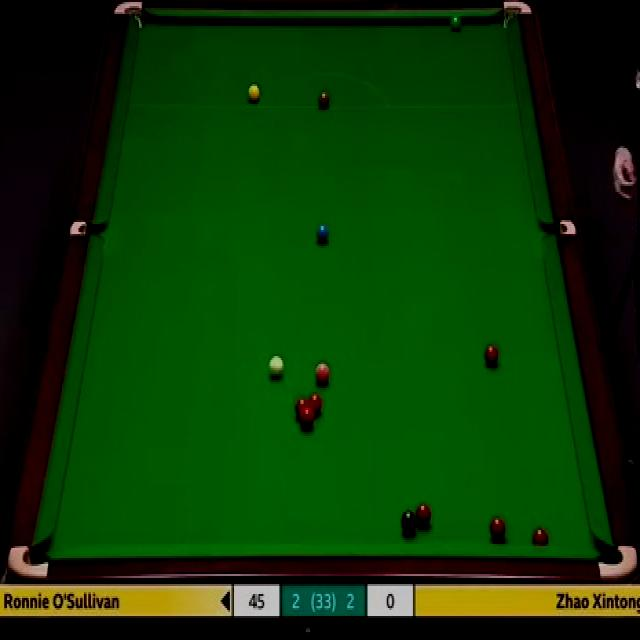black-ball: (402, 508, 416, 537)
blue-ball: (317, 224, 331, 246)
brown-ball: (318, 88, 330, 108)
green-ball: (448, 13, 462, 30)
pink-ball: (314, 361, 332, 388)
red-ball: (489, 514, 507, 539), (300, 405, 314, 433), (485, 343, 501, 367), (416, 502, 430, 527), (308, 390, 323, 413), (532, 526, 550, 545), (296, 395, 309, 418)
white-ball: (269, 355, 282, 377)
yellow-ball: (247, 85, 261, 104)
